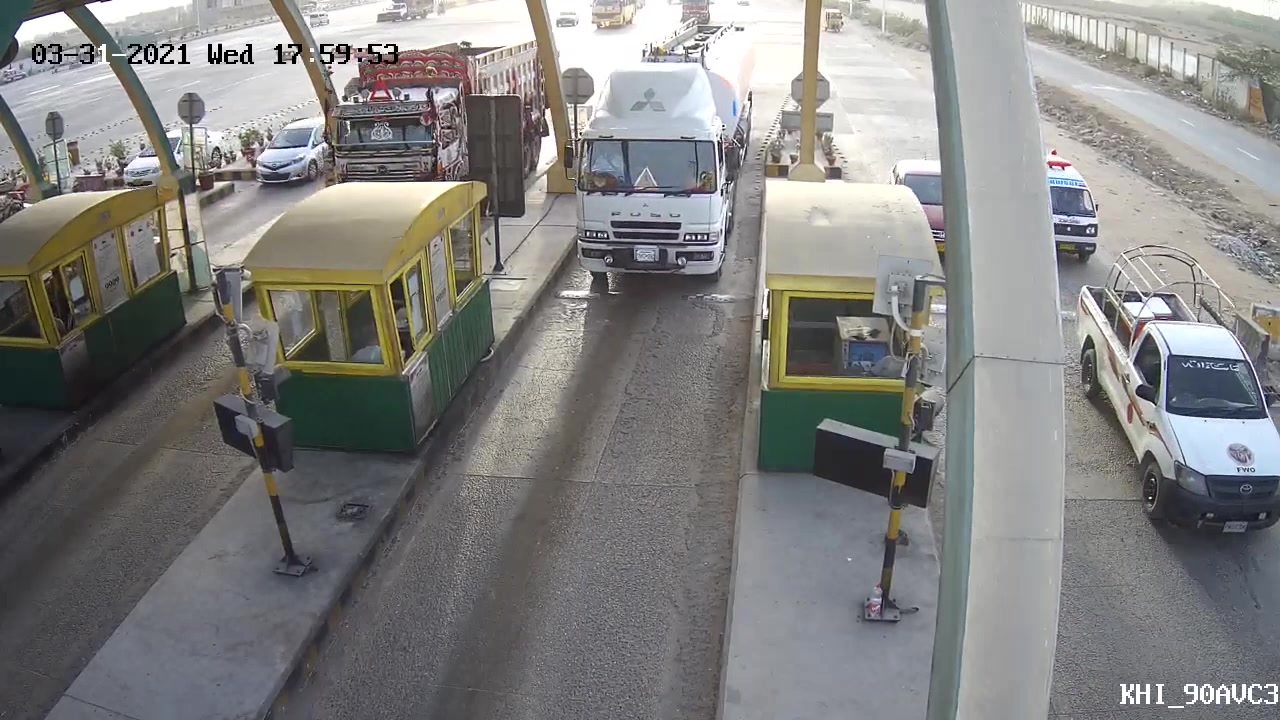F6: (554, 30, 754, 292)
